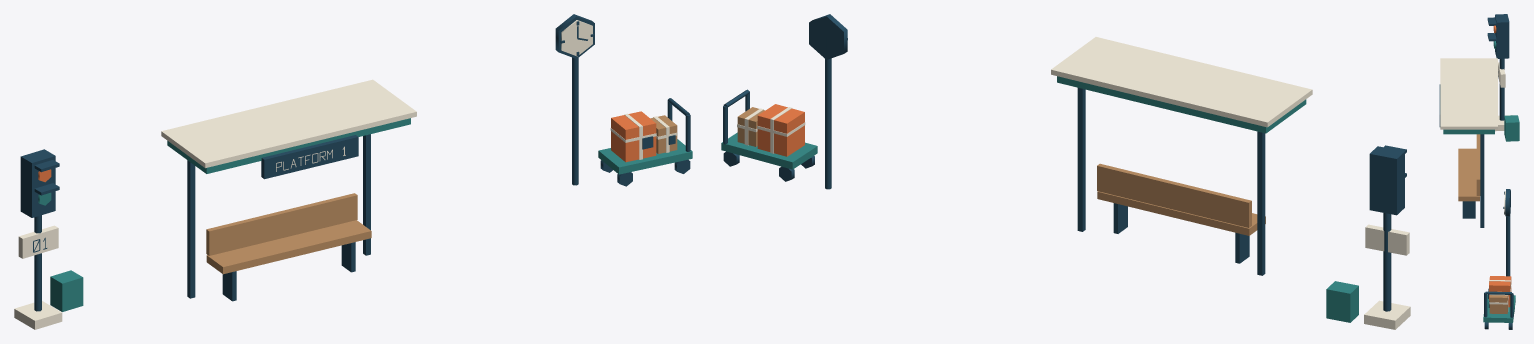
Rendered from amtrak.glb.
3 views of the same model, side by side, from view 1: azimuth 30°, elevation 25°; view 2: azimuth 150°, elevation 25°; view 3: azimuth 270°, elevation 25° (orthographic). The views are drawn at different scales.
Visible parts, largest first — view 1: static_detail_ivory, static_detail_navy, static_detail_wood, static_detail_teal, static_detail_orange; view 2: static_detail_ivory, static_detail_navy, static_detail_wood, static_detail_teal, static_detail_orange; view 3: static_detail_ivory, static_detail_navy, static_detail_wood, static_detail_teal, static_detail_orange.
Part boxes in pixels (bbox=[...]): static_detail_ivory: bbox=[14, 20, 677, 329]; static_detail_navy: bbox=[20, 14, 690, 311]; static_detail_wood: bbox=[206, 115, 677, 274]; static_detail_teal: bbox=[38, 118, 692, 311]; static_detail_orange: bbox=[38, 111, 656, 182]; static_detail_ivory: bbox=[737, 37, 1410, 329]; static_detail_navy: bbox=[723, 14, 1406, 311]; static_detail_wood: bbox=[737, 107, 1265, 235]; static_detail_teal: bbox=[721, 76, 1358, 322]; static_detail_orange: bbox=[757, 104, 804, 156]; static_detail_ivory: bbox=[1440, 58, 1512, 311]; static_detail_navy: bbox=[1439, 14, 1514, 329]; static_detail_wood: bbox=[1458, 134, 1507, 313]; static_detail_teal: bbox=[1443, 41, 1519, 322]; static_detail_orange: bbox=[1489, 25, 1511, 307].
Bounding box in the file's own units: 10.69 × 2.61 × 1.7.
